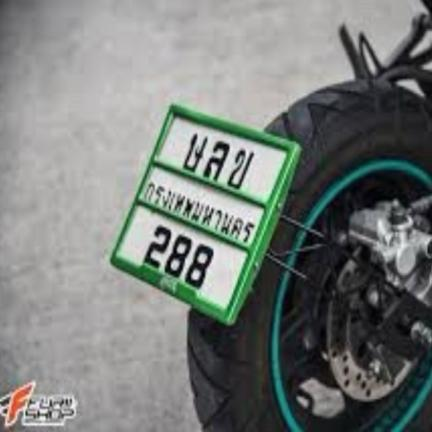2: (139, 220, 175, 272)
8: (182, 242, 217, 291), (161, 232, 196, 279)
A02: (222, 146, 257, 189)
A36: (200, 139, 234, 183)
A39: (178, 129, 211, 173)
BKK: (139, 175, 258, 245)
